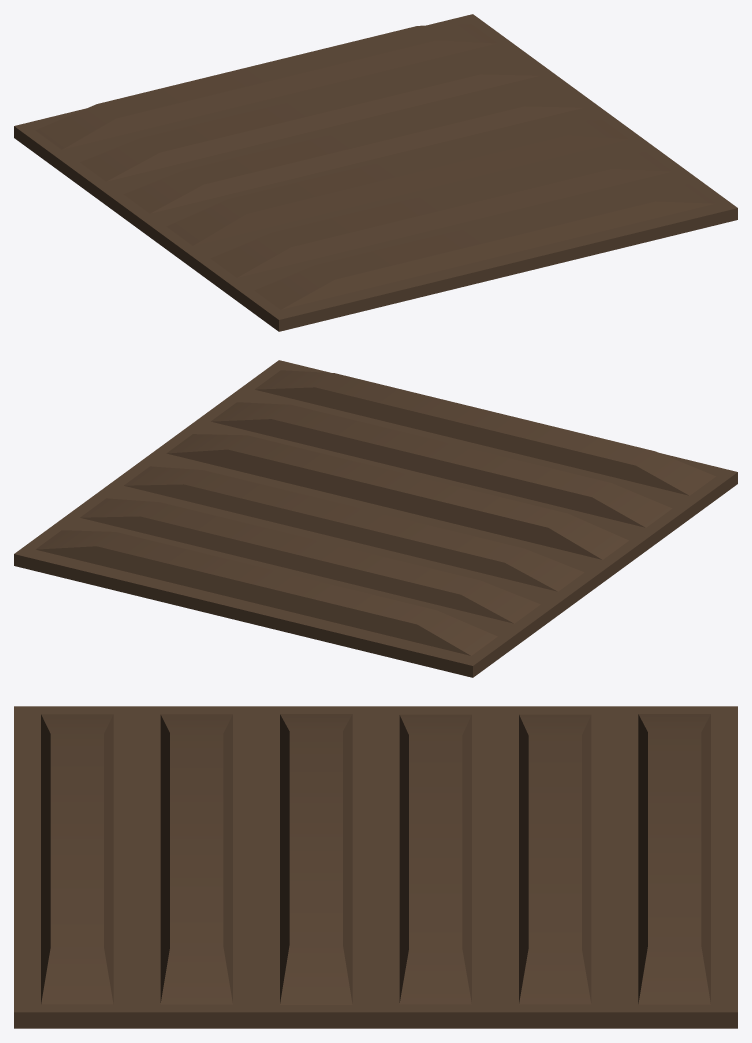
Rendered from field_plot.glb.
The picture shows the model from 3 angles, top to bottom: view 1: azimuth 30°, elevation 25°; view 2: azimuth 150°, elevation 25°; view 3: azimuth 270°, elevation 25°; orthographic projection. The views are drawn at different scales.
Visible parts, largest first — view 1: field_plot_lod0; view 2: field_plot_lod0; view 3: field_plot_lod0.
Part boxes in pixels (<box>): field_plot_lod0: <box>14,14,737,331</box>; field_plot_lod0: <box>14,360,737,677</box>; field_plot_lod0: <box>14,706,737,1028</box>.
Size of what is drawn, in the model's own units: 4.04 by 0.2305 by 4.04.
